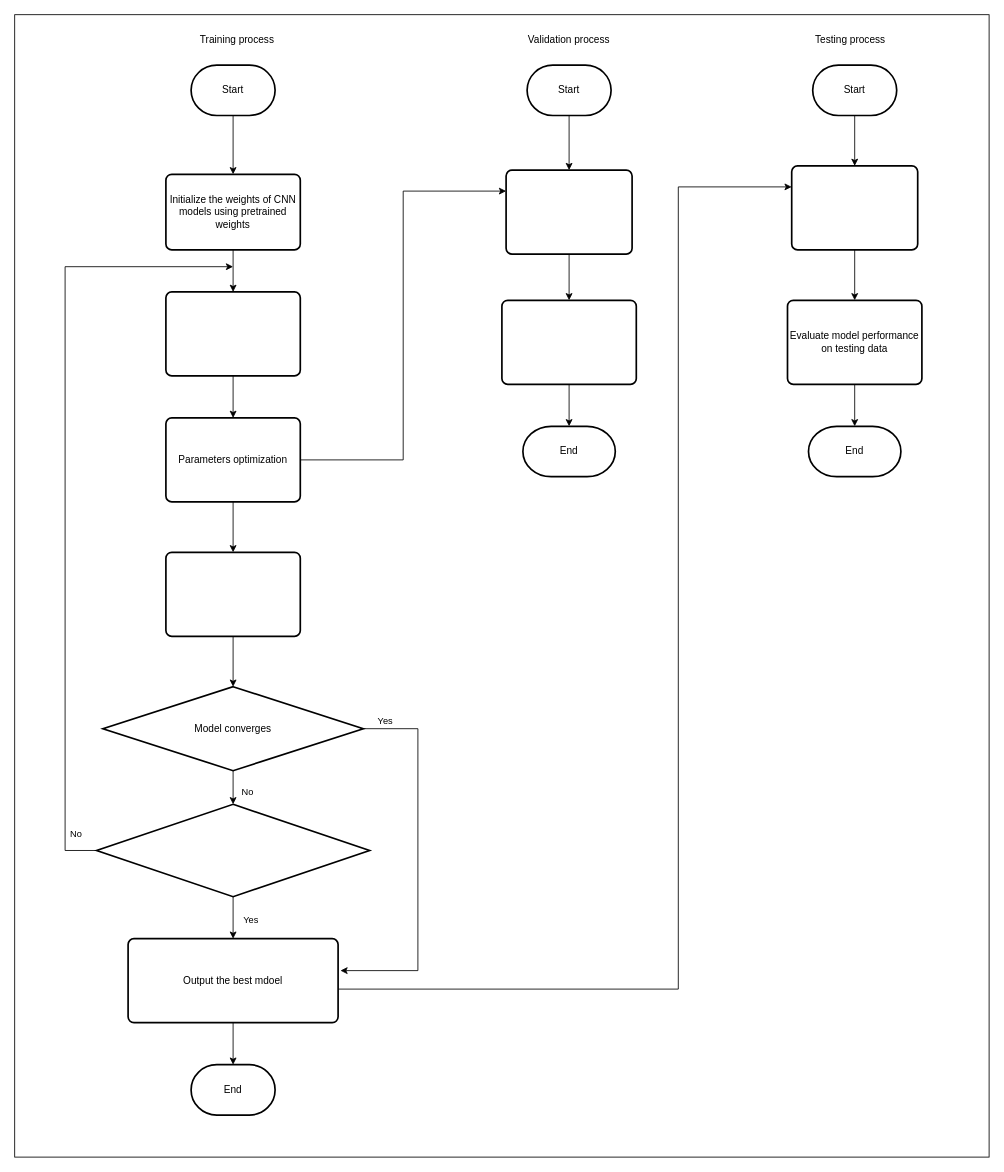
Image size: 1004x1172. Some labels were removed from this diagram. The shapes that lost their labels are listed below. From the top down, each one's centre as x and y in pixels, then its label:
(569,212): Feed validation data into the model
(854,207): Feed testing data into the model
(233,333): Feed training data into the model
(569,342): Evaluate model performance on validation data
(233,594): Save the best model
(232,850): Number of training epochs exceeds maximum
